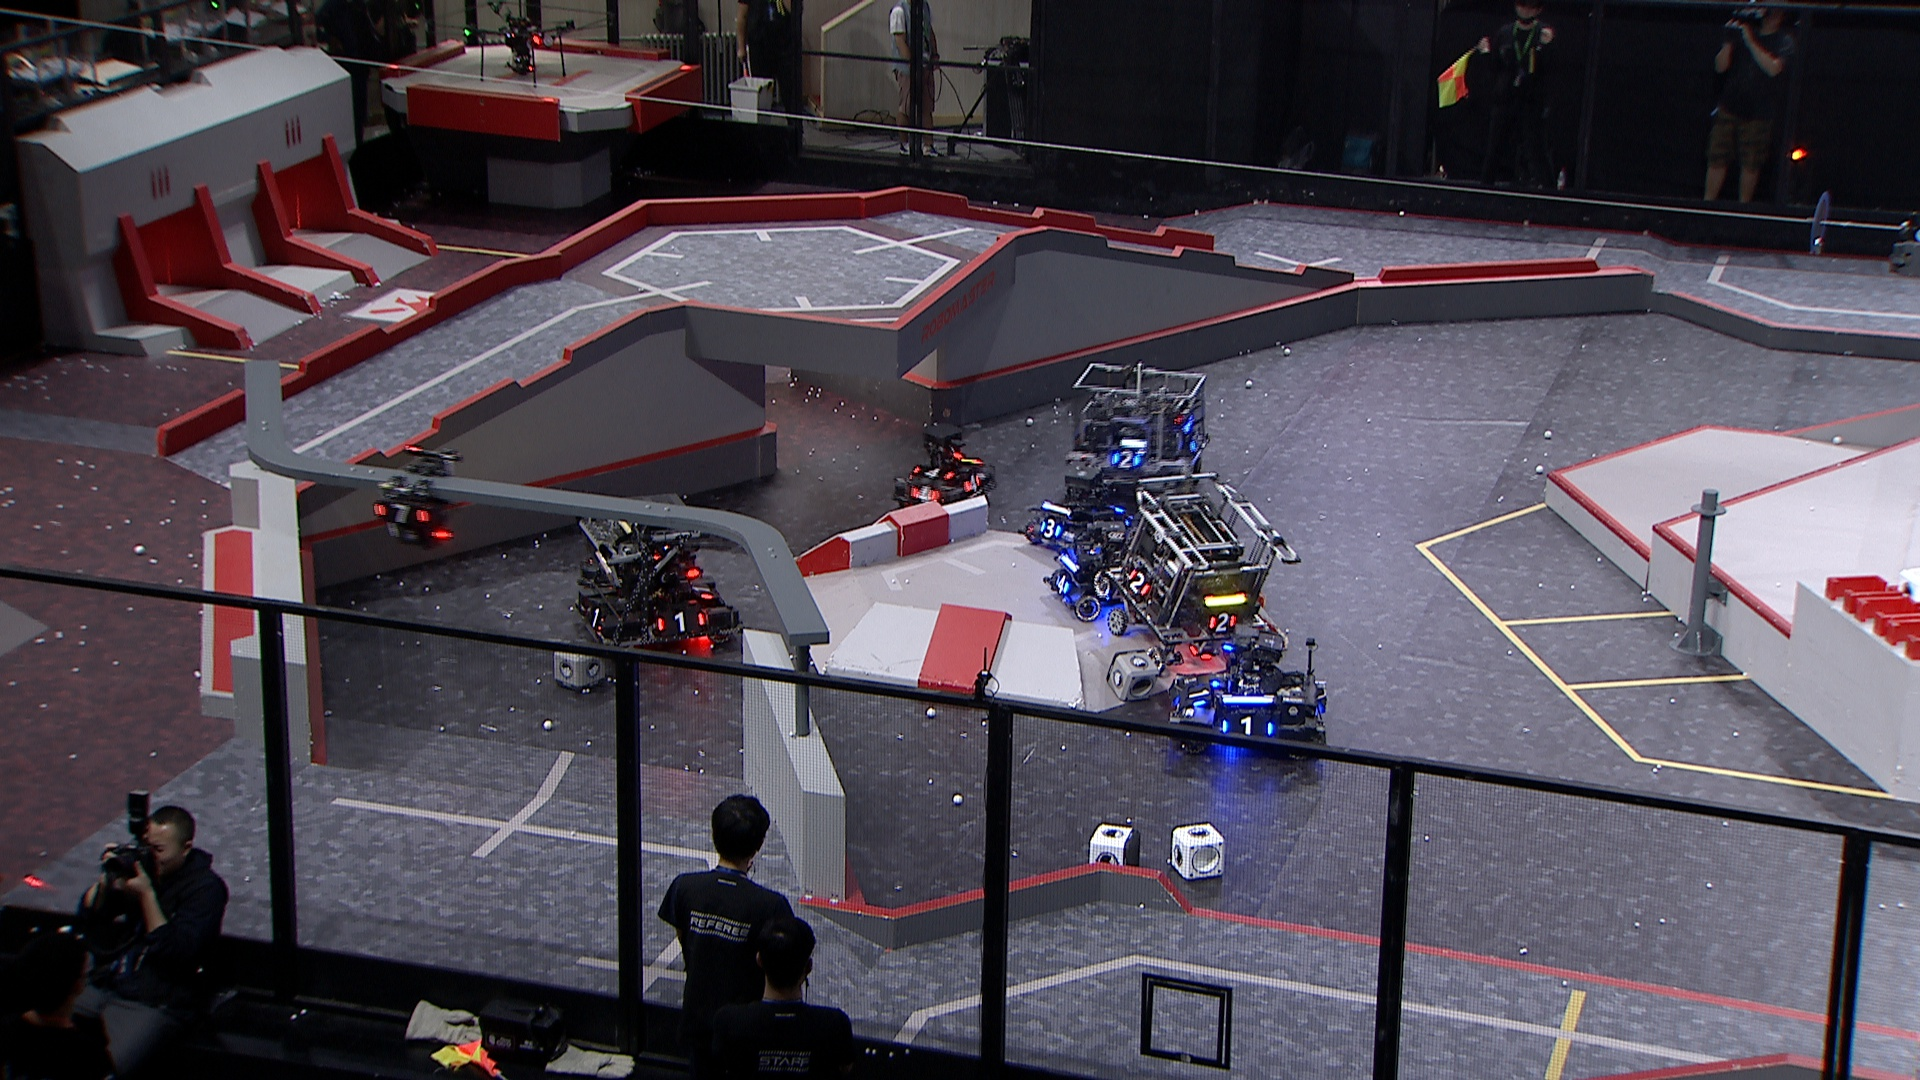armor: (1220, 716, 1275, 741), (654, 611, 707, 636), (373, 502, 429, 526), (1125, 567, 1153, 599), (1207, 612, 1240, 636), (1110, 448, 1145, 471), (1187, 683, 1215, 708), (913, 465, 955, 481), (1038, 517, 1065, 541), (584, 605, 608, 632), (907, 487, 942, 504), (961, 473, 984, 495), (1185, 433, 1205, 454), (1054, 574, 1073, 595), (692, 585, 716, 603), (1171, 695, 1185, 716)
car: (1095, 471, 1304, 669), (570, 488, 742, 661), (1163, 618, 1335, 766), (1065, 361, 1211, 496), (1021, 462, 1143, 556), (1043, 524, 1153, 618), (891, 422, 1004, 513)
watcher: (367, 444, 465, 549)
